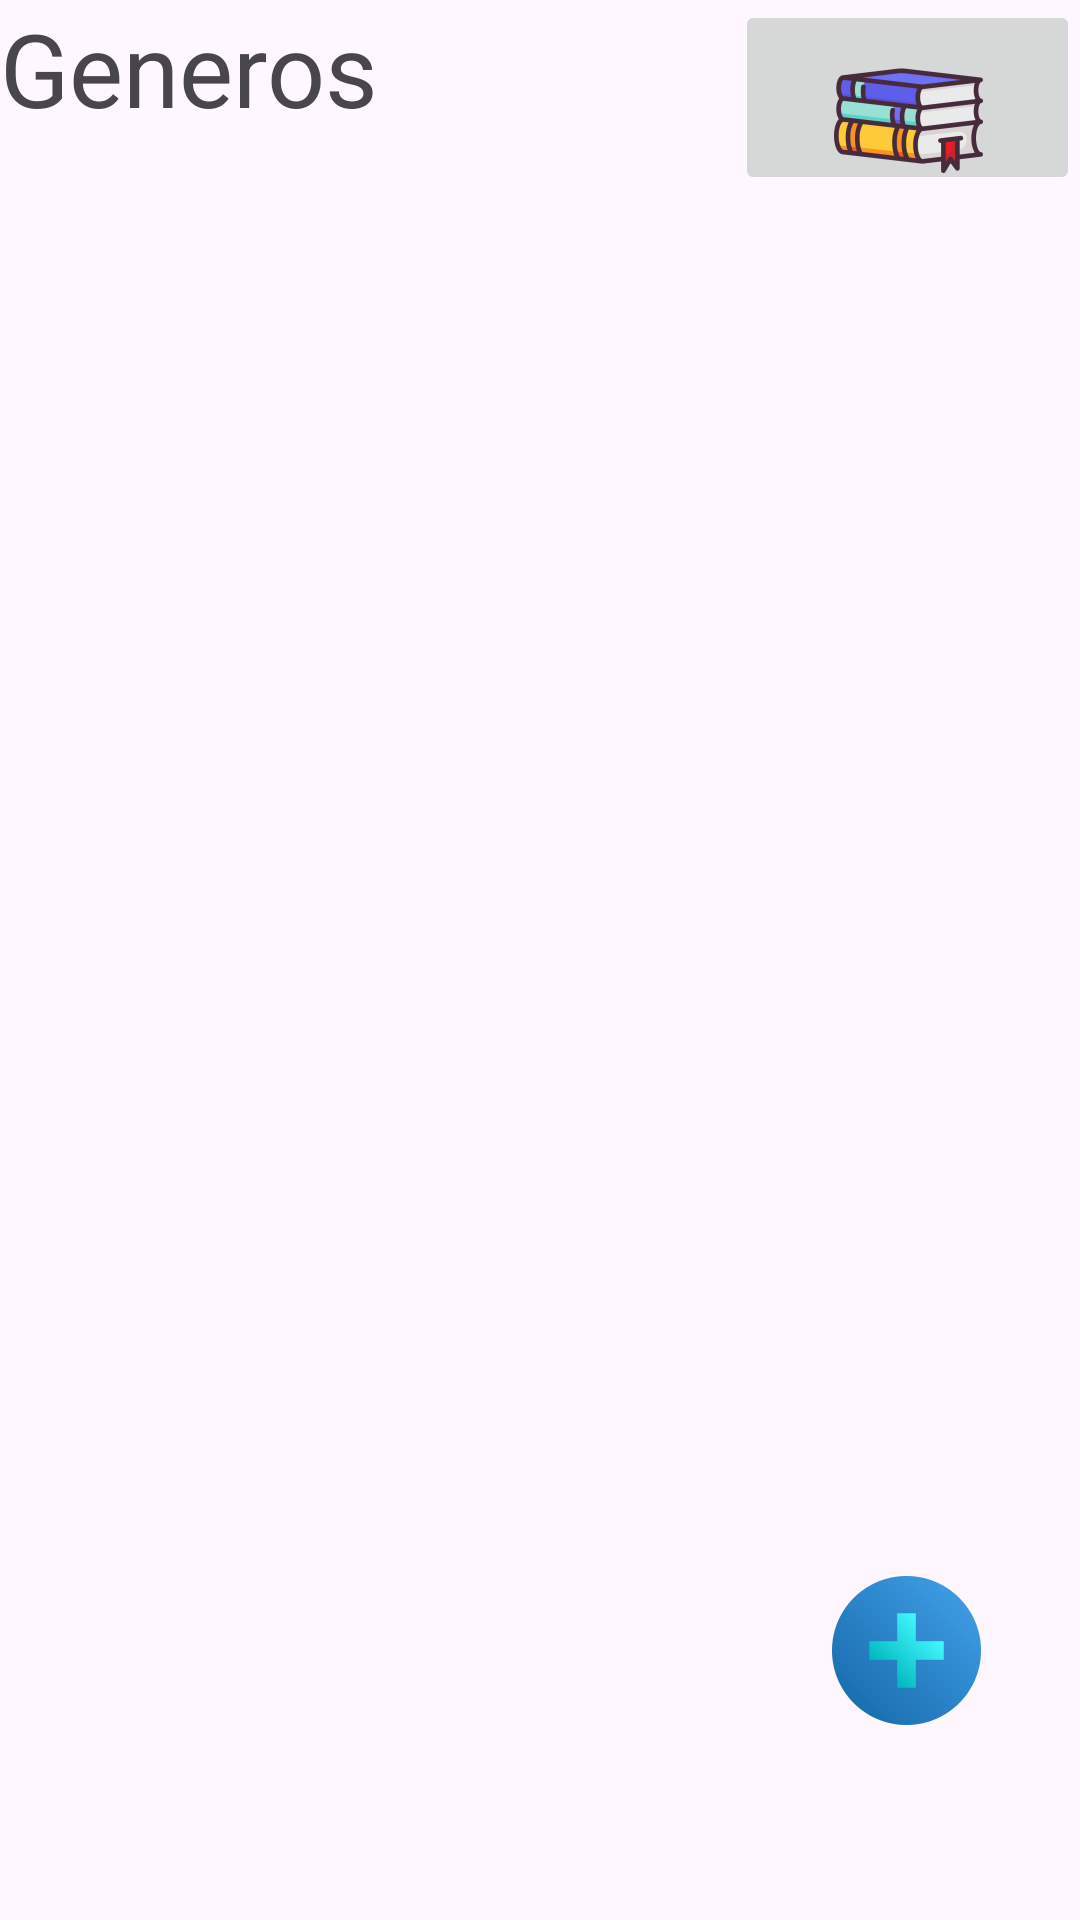

Icons on this 1080w x 1920h Android screen, each with its box as (x1, y1, x2, y2):
agregar: (832, 1576, 981, 1725)
ver libros: (747, 18, 1068, 177)
